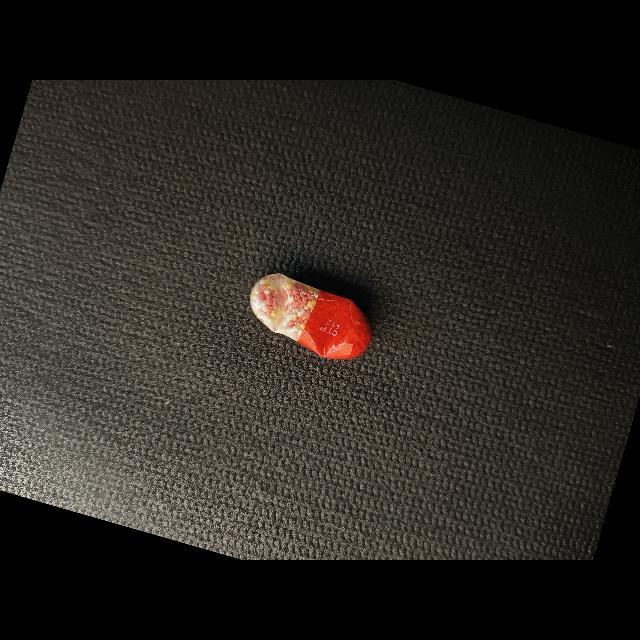Defective Capsule: (250, 273, 372, 360)
